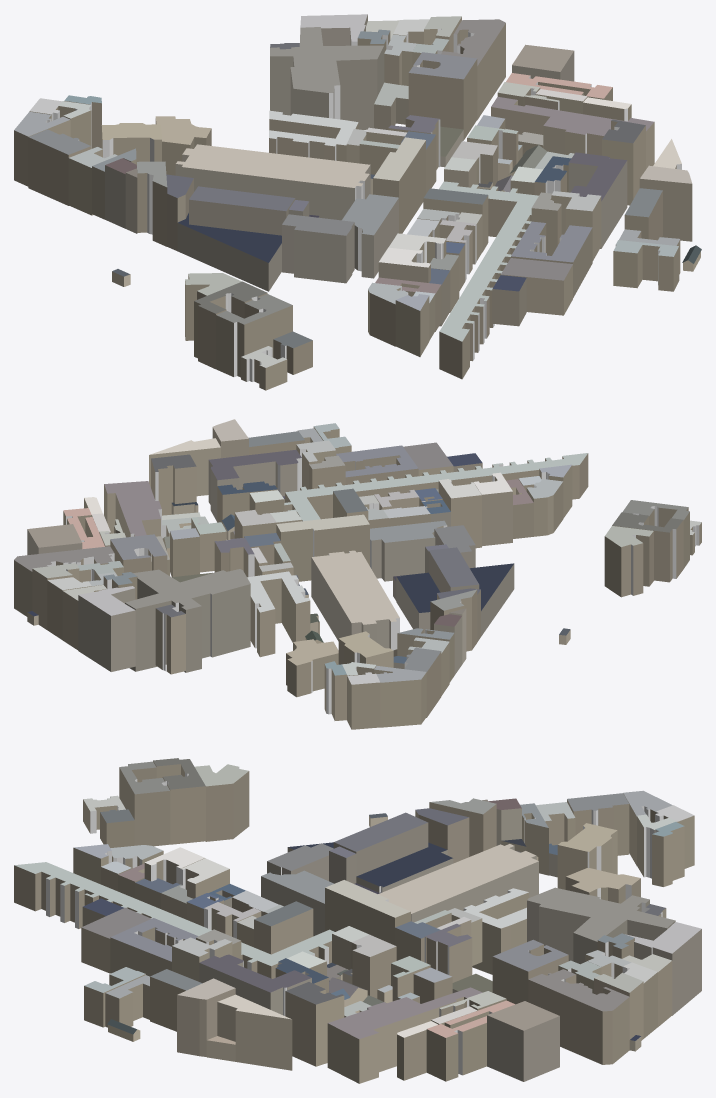
The picture shows the model from 3 angles, top to bottom: view 1: azimuth 30°, elevation 25°; view 2: azimuth 150°, elevation 25°; view 3: azimuth 270°, elevation 25°; orthographic projection. The views are drawn at different scales.
Visible parts, largest first — view 1: tuile; view 2: tuile; view 3: tuile.
Part boxes in pixels (<box>): tuile: <box>14,14,701,390</box>; tuile: <box>14,419,701,729</box>; tuile: <box>14,758,701,1083</box>.
Bounding box in the file's own units: 267 × 34.48 × 292.
